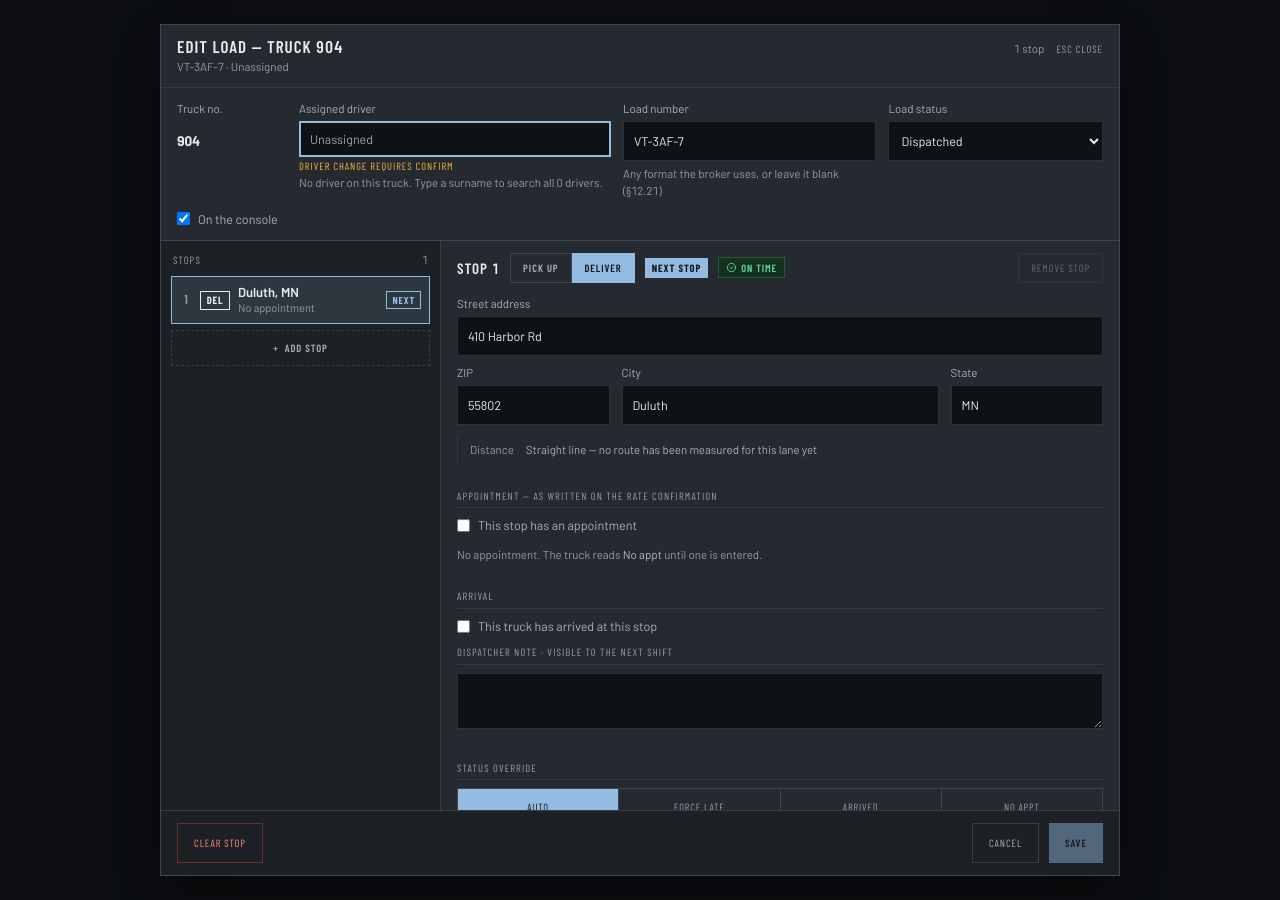
Test: an existing load, saved with a warning (§12.127) › a spent form keeps Save off with an override in its draft, so its stale save is never sent
The width and height of the screenshot is (1280, 900).
Click the button "Force late" at (699,807), box [618,789,780,825]
(page scrolled)
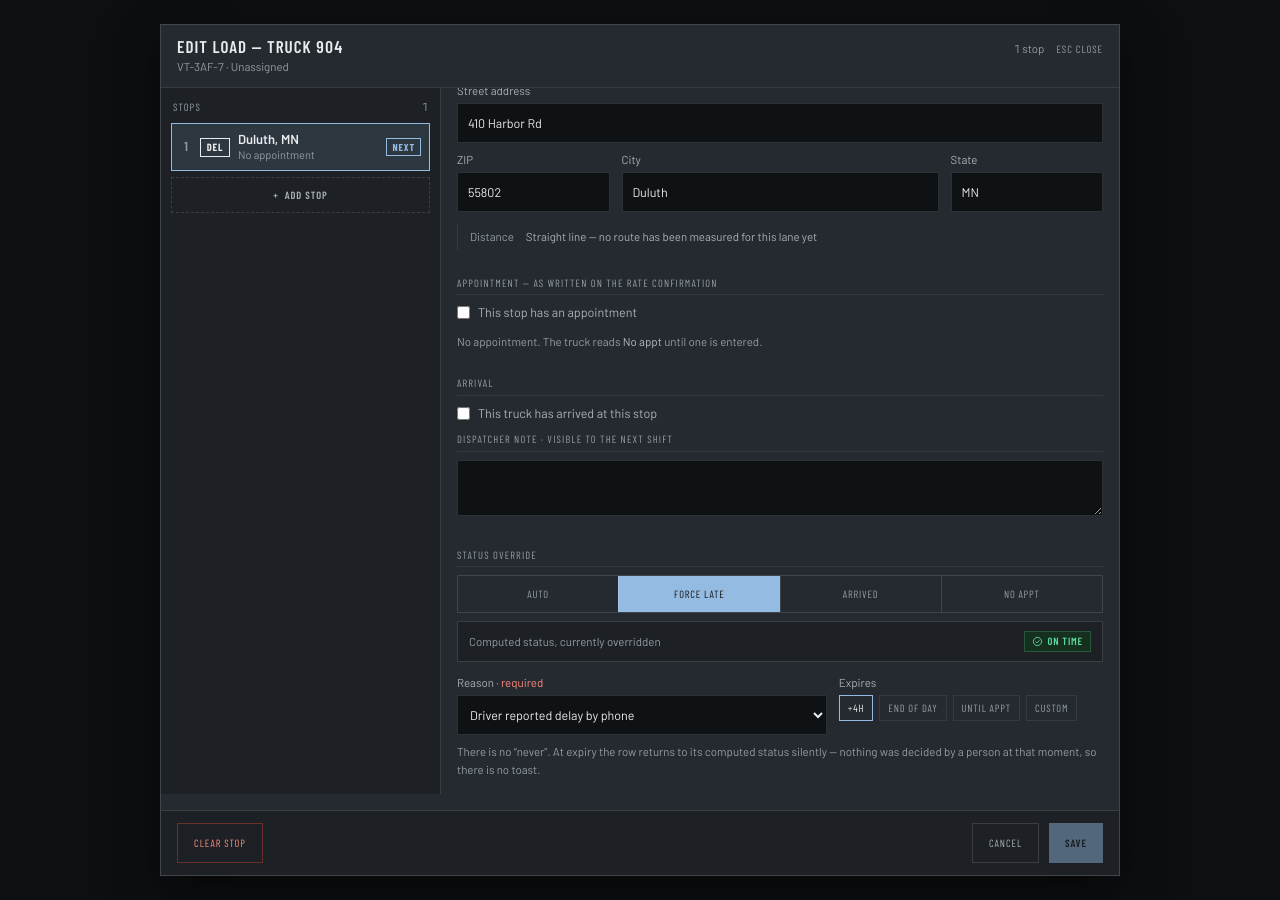
Select "Driver reported delay by phone" in the dropdown labelled "Reason · required" at (642,715), box [457,695,827,735]
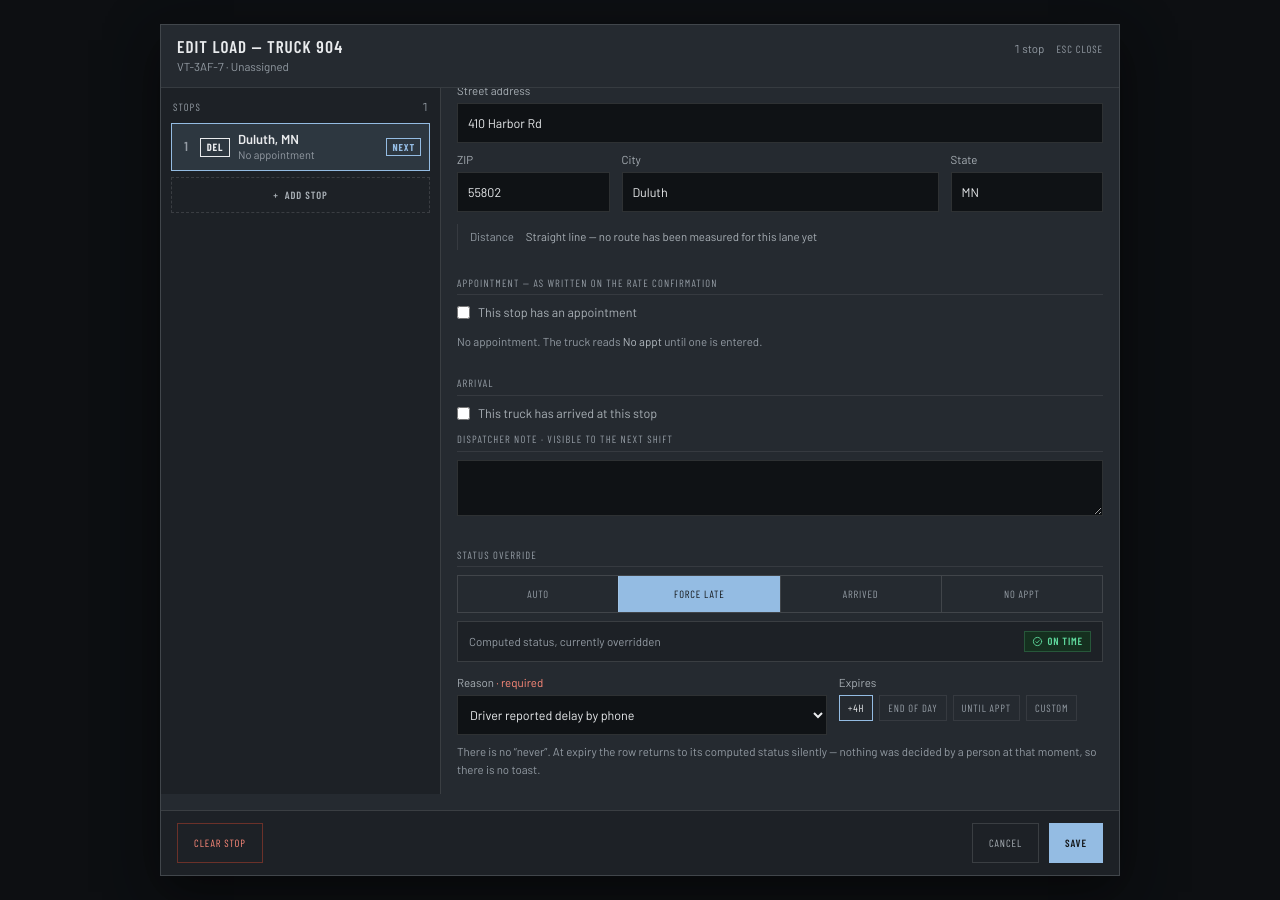
Click the button "Save" at (1076,843), box [1049,823,1103,863]
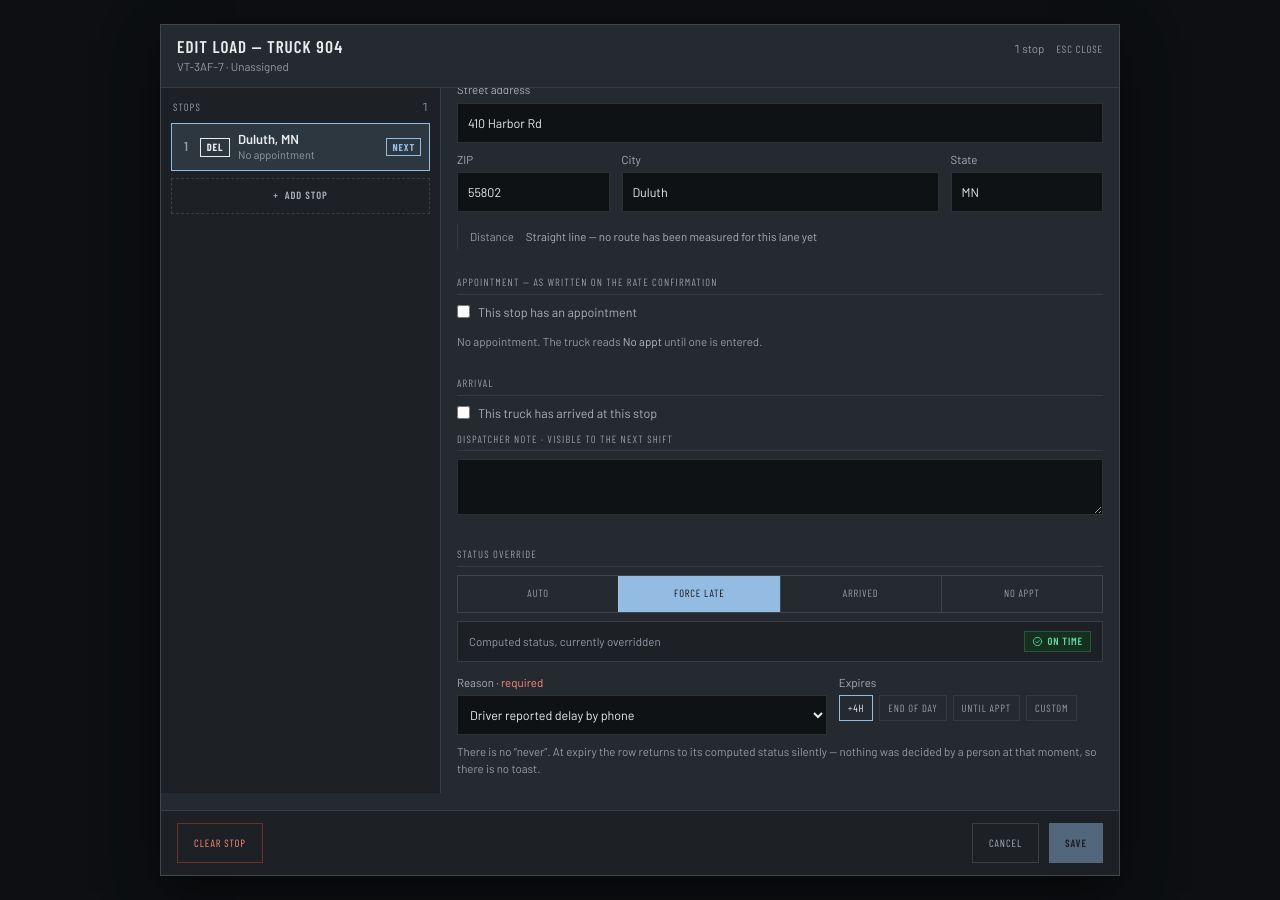
Now the button "Save" is disabled, box [1049,823,1103,863]
